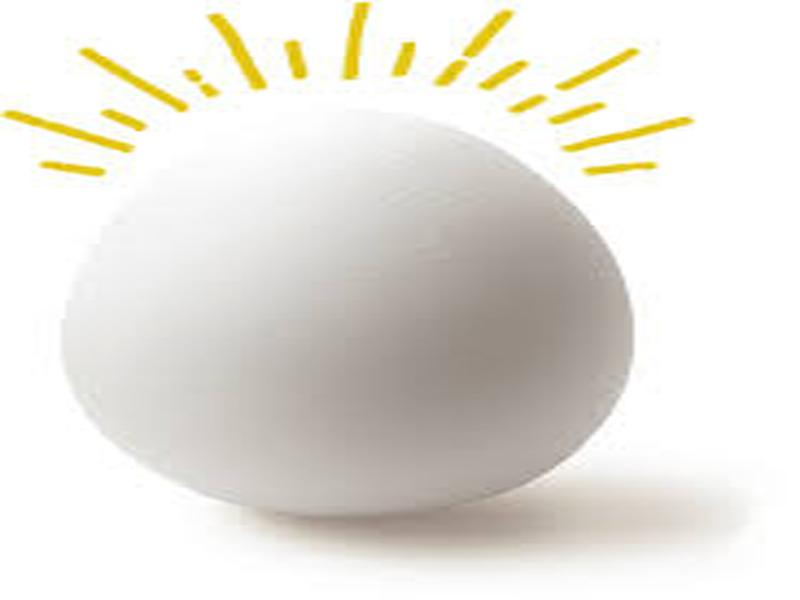Eggs: (56, 112, 633, 516)
